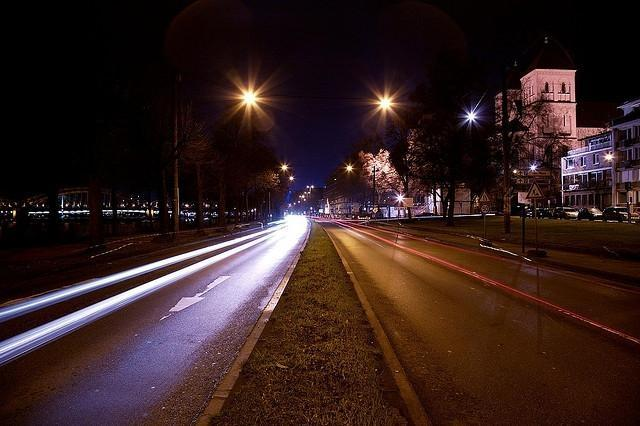car: (602, 206, 628, 223), (577, 207, 603, 222), (554, 206, 578, 220), (538, 208, 554, 219)
